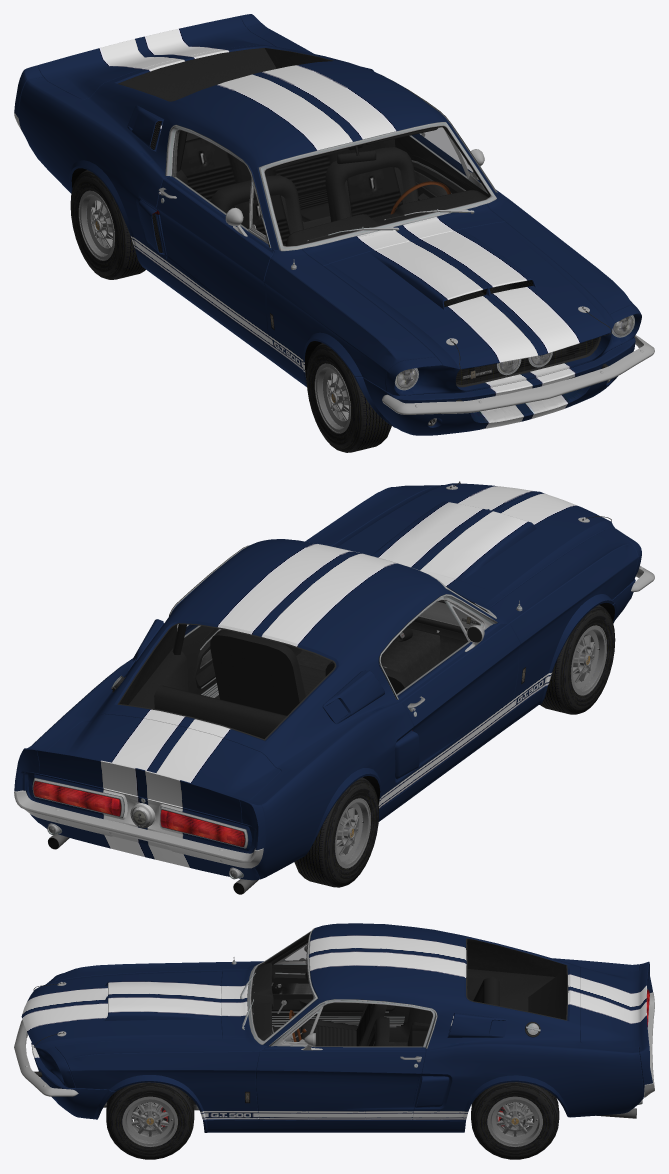
Rendered from shelby1.glb.
The picture shows the model from 3 angles, top to bottom: view 1: azimuth 30°, elevation 25°; view 2: azimuth 150°, elevation 25°; view 3: azimuth 270°, elevation 25°; orthographic projection. The views are drawn at different scales.
Parts seen in each view (by area): view 1: cobra_gt500:LOD_A_BODY_mm_ext, cobra_gt500:LOD_A_HOOD_mm_ext, cobra_gt500:LOD_A_GLASS_FRONT_mm_windows, cobra_gt500_int:LOD_A_INT_INTERIOR_mm_mat01, cobra_gt500:LOD_A_DOOR_RIGHT_mm_ext, cobra_gt500:LOD_A_INTERIOR_mm_cab, cobra_gt500:LOD_A_BOOT_mm_ext, cobra_gt500:LOD_A_GLASS_RIGHT_mm_windows, cobra_gt500:LOD_A_GLASS_REAR_mm_windows, cobra_gt500:LOD_A_BODY_mm_misc, cobra_gt500:LOD_A_FRONTBUMPER_mm_misc, LOD_A_TYRE_mm_tyre (+11 smaller); view 2: cobra_gt500:LOD_A_BODY_mm_ext, cobra_gt500:LOD_A_HOOD_mm_ext, cobra_gt500:LOD_A_BOOT_mm_ext, cobra_gt500:LOD_A_GLASS_REAR_mm_windows, cobra_gt500_int:LOD_A_INT_INTERIOR_mm_mat01, cobra_gt500:LOD_A_DOOR_RIGHT_mm_ext, cobra_gt500:LOD_A_GLASS_RIGHT_mm_windows, cobra_gt500_int:LOD_A_INT_INTERIOR_mm_mat04, cobra_gt500:LOD_A_REARBUMPER_mm_misc, LOD_A_TYRE_mm_tyre2, LOD_A_TYRE_mm_tyre, cobra_gt500:LOD_A_BODY_mm_misc (+10 smaller); view 3: cobra_gt500:LOD_A_BODY_mm_ext, cobra_gt500:LOD_A_HOOD_mm_ext, cobra_gt500:LOD_A_DOOR_LEFT_mm_ext, cobra_gt500_int:LOD_A_INT_INTERIOR_mm_mat01, cobra_gt500:LOD_A_GLASS_REAR_mm_windows, cobra_gt500:LOD_A_BOOT_mm_ext, cobra_gt500:LOD_A_GLASS_LEFT_mm_windows, cobra_gt500:LOD_A_GLASS_FRONT_mm_windows, cobra_gt500:LOD_A_TYRE_mm_tyre, LOD_A_TYRE_mm_tyre1, cobra_gt500_int:LOD_A_INT_DOOR_RIGHT_mm_mat01, cobra_gt500_int:LOD_A_INT_INTERIOR_mm_mat04 (+11 smaller).
Boxes of the visible parts, x1,y1,x2,y2 form: cobra_gt500:LOD_A_BODY_mm_ext: (14, 14, 641, 435); cobra_gt500:LOD_A_HOOD_mm_ext: (323, 222, 614, 369); cobra_gt500:LOD_A_GLASS_FRONT_mm_windows: (265, 126, 489, 245); cobra_gt500_int:LOD_A_INT_INTERIOR_mm_mat01: (120, 48, 490, 246); cobra_gt500:LOD_A_DOOR_RIGHT_mm_ext: (156, 176, 274, 345); cobra_gt500:LOD_A_INTERIOR_mm_cab: (180, 137, 402, 245); cobra_gt500:LOD_A_BOOT_mm_ext: (37, 16, 274, 99); cobra_gt500:LOD_A_GLASS_RIGHT_mm_windows: (174, 130, 265, 234); cobra_gt500:LOD_A_GLASS_REAR_mm_windows: (120, 48, 330, 100); cobra_gt500:LOD_A_BODY_mm_misc: (258, 122, 634, 426); cobra_gt500:LOD_A_FRONTBUMPER_mm_misc: (382, 335, 654, 414); LOD_A_TYRE_mm_tyre: (306, 343, 391, 452); cobra_gt500:LOD_A_BODY_mm_ext: (14, 485, 641, 880); cobra_gt500:LOD_A_HOOD_mm_ext: (332, 483, 614, 596); cobra_gt500:LOD_A_BOOT_mm_ext: (37, 714, 280, 822); cobra_gt500:LOD_A_GLASS_REAR_mm_windows: (120, 624, 334, 738); cobra_gt500_int:LOD_A_INT_INTERIOR_mm_mat01: (128, 600, 487, 738); cobra_gt500:LOD_A_DOOR_RIGHT_mm_ext: (397, 622, 520, 783); cobra_gt500:LOD_A_GLASS_RIGHT_mm_windows: (381, 601, 480, 695); cobra_gt500_int:LOD_A_INT_INTERIOR_mm_mat04: (119, 624, 467, 704); cobra_gt500:LOD_A_REARBUMPER_mm_misc: (14, 790, 263, 868); LOD_A_TYRE_mm_tyre2: (294, 777, 379, 887); LOD_A_TYRE_mm_tyre: (540, 605, 615, 714); cobra_gt500:LOD_A_BODY_mm_misc: (32, 547, 522, 879); cobra_gt500:LOD_A_BODY_mm_ext: (31, 923, 652, 1132); cobra_gt500:LOD_A_HOOD_mm_ext: (21, 970, 222, 1049); cobra_gt500:LOD_A_DOOR_LEFT_mm_ext: (256, 1046, 425, 1120); cobra_gt500_int:LOD_A_INT_INTERIOR_mm_mat01: (251, 933, 566, 1046); cobra_gt500:LOD_A_GLASS_REAR_mm_windows: (467, 939, 566, 1019); cobra_gt500:LOD_A_BOOT_mm_ext: (580, 965, 648, 1047); cobra_gt500:LOD_A_GLASS_LEFT_mm_windows: (285, 1003, 432, 1046); cobra_gt500:LOD_A_GLASS_FRONT_mm_windows: (251, 932, 312, 1039); cobra_gt500:LOD_A_TYRE_mm_tyre: (106, 1082, 194, 1159); LOD_A_TYRE_mm_tyre1: (471, 1082, 559, 1159); cobra_gt500_int:LOD_A_INT_DOOR_RIGHT_mm_mat01: (271, 964, 409, 1026); cobra_gt500_int:LOD_A_INT_INTERIOR_mm_mat04: (296, 939, 565, 1046).
Bounding box in the file's own units: 0.0179 × 0.0135 × 0.0482.
20 materials, 18 textured.
